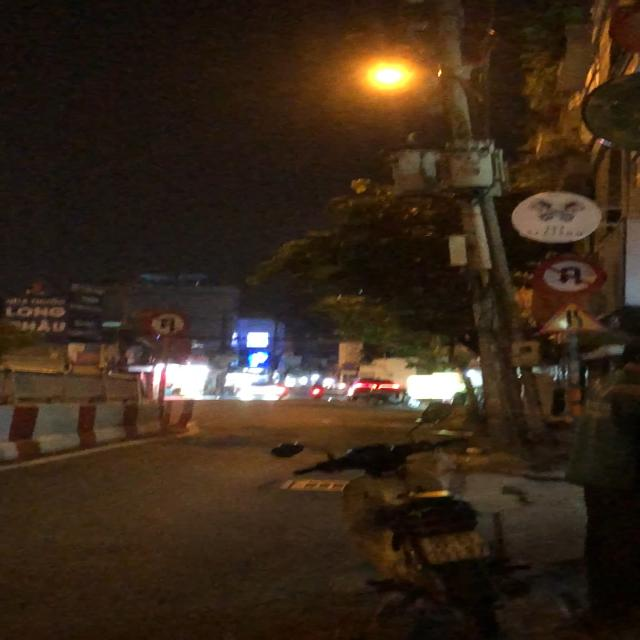Bien bao cam quay dau xe: (530, 251, 609, 296), (144, 308, 193, 340)
Bien bao duong bi thu hep: (537, 298, 608, 336)
